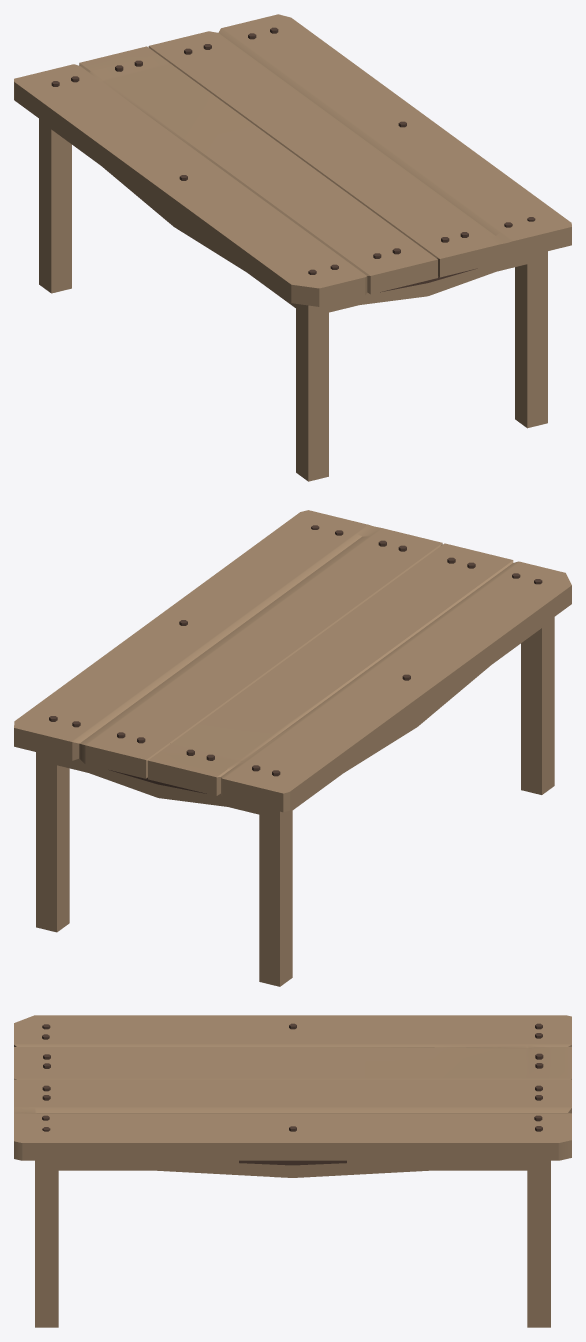
File: Table.fbx
3 renders of one model, top to bottom at view 1: azimuth 30°, elevation 25°; view 2: azimuth 150°, elevation 25°; view 3: azimuth 270°, elevation 25°, orthographic. The views are drawn at different scales.
Visible parts, largest first — view 1: Table; view 2: Table; view 3: Table.
Part boxes in pixels (x1,y1,x2,y2): Table: [14, 14, 571, 481]; Table: [14, 510, 571, 986]; Table: [14, 1015, 571, 1327].
Size of the model in its own units: 188 by 134 by 346.
